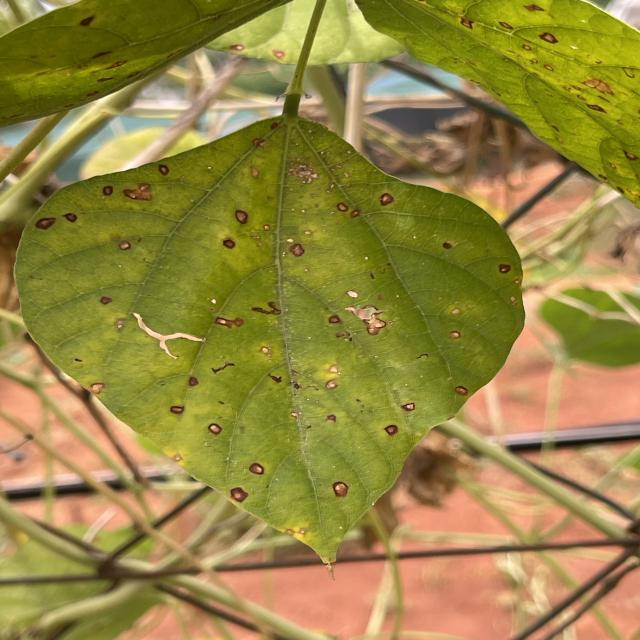Dolicos bean_cercospora leaf spot: (19, 116, 521, 565)
